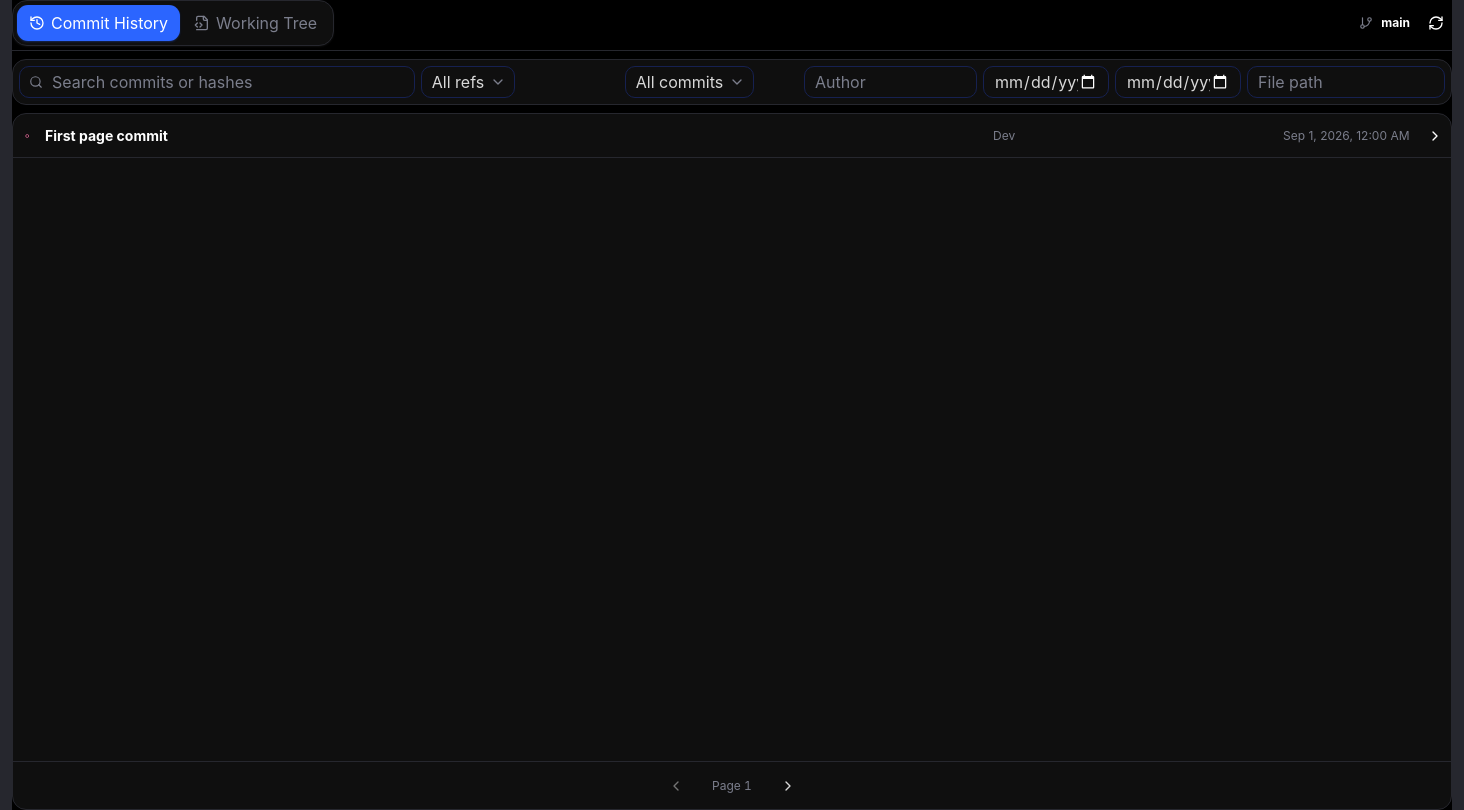
Test: WorkspaceGitPage data loading › fetches the next history page once and reuses cached pages when going back
The image size is (1464, 810).
Expected: the text "First page commit" is shown, [45,126,168,146]
Click the button named "Next".
click(788, 786)  # box [772,770,804,802]
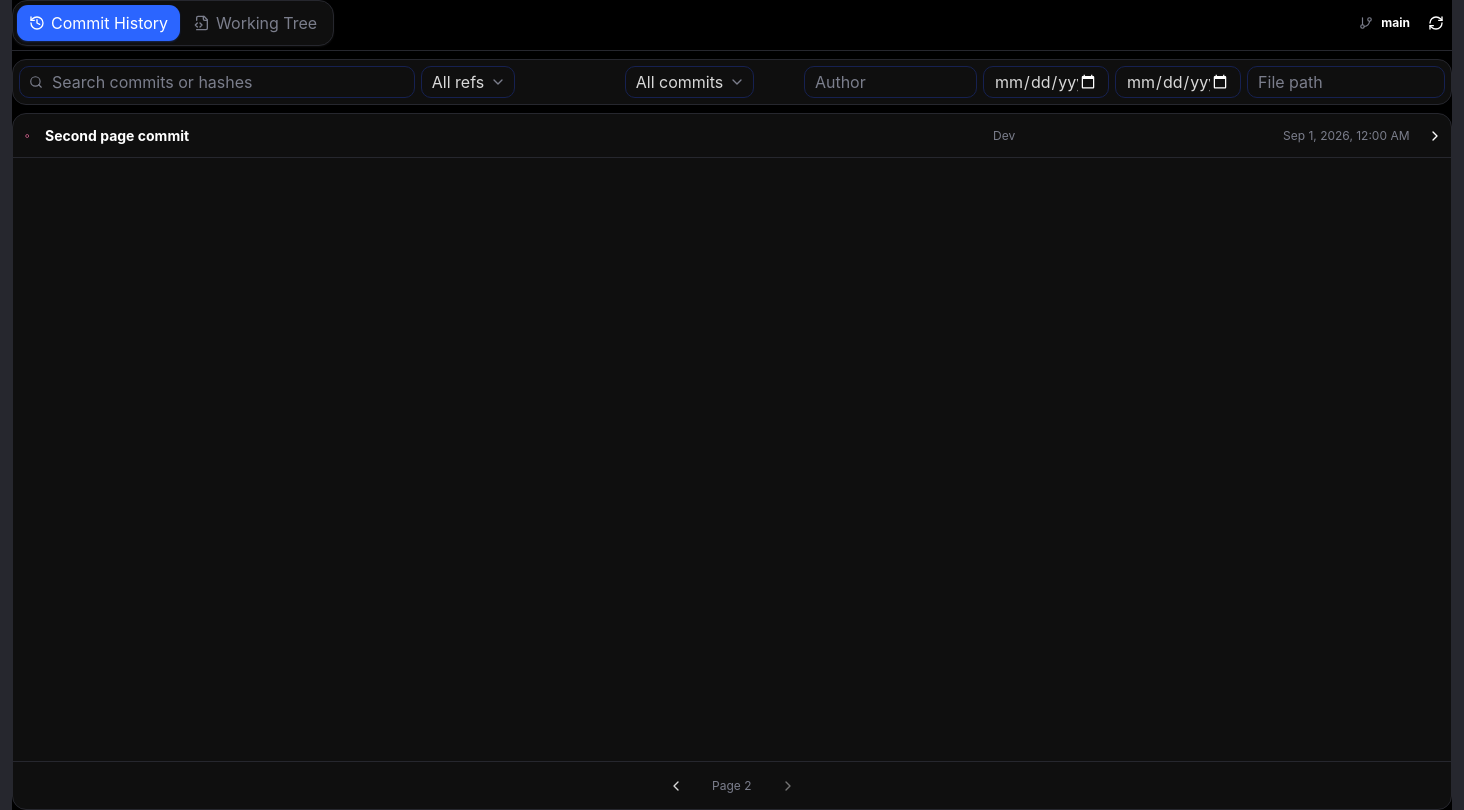
Now the text "Second page commit" is shown, box [45,126,189,146]
Click the button named "Previous".
click(676, 786)  # box [660,770,692,802]
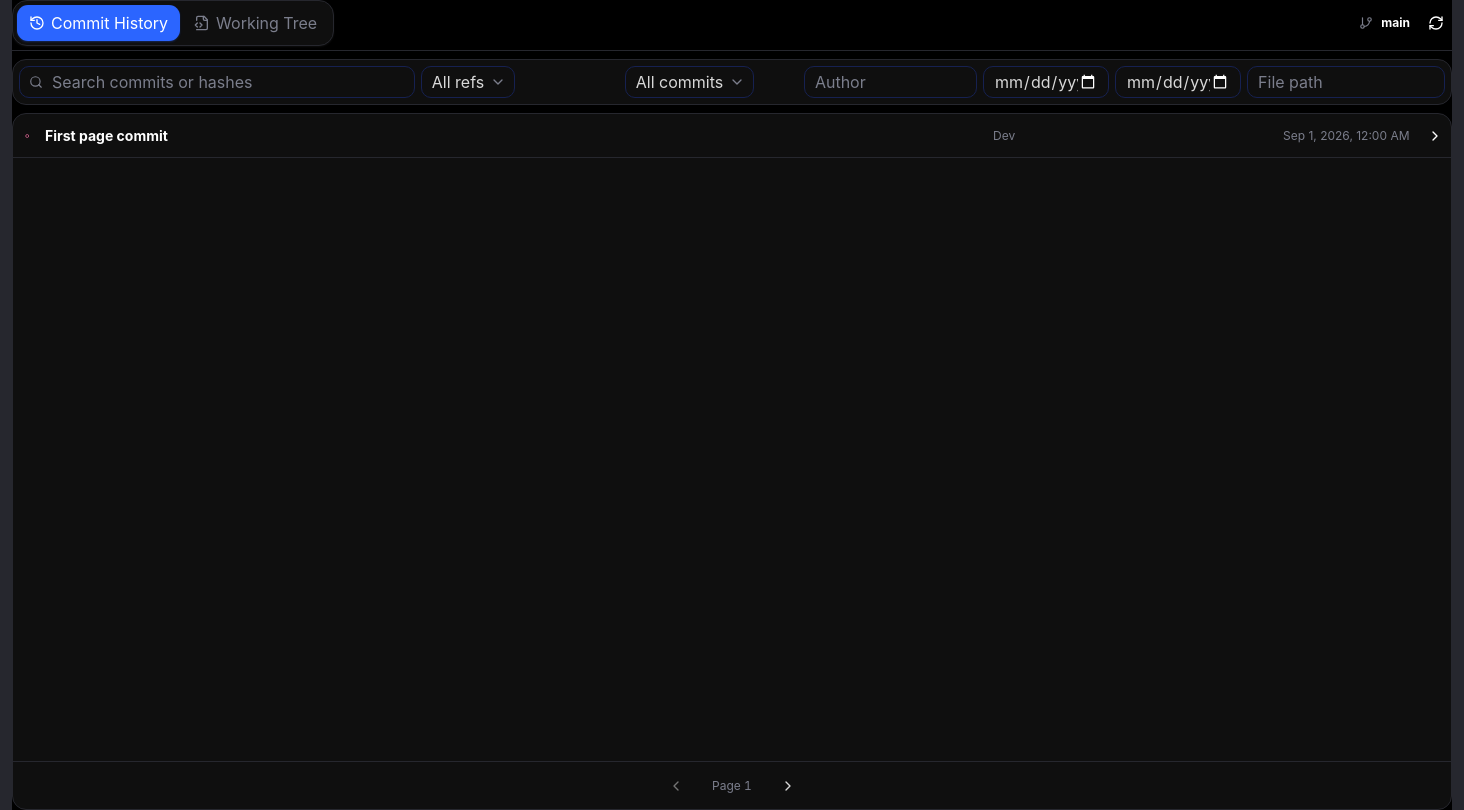
Now the text "First page commit" is shown, box [45,126,168,146]
Click the button named "Next".
click(788, 786)  # box [772,770,804,802]
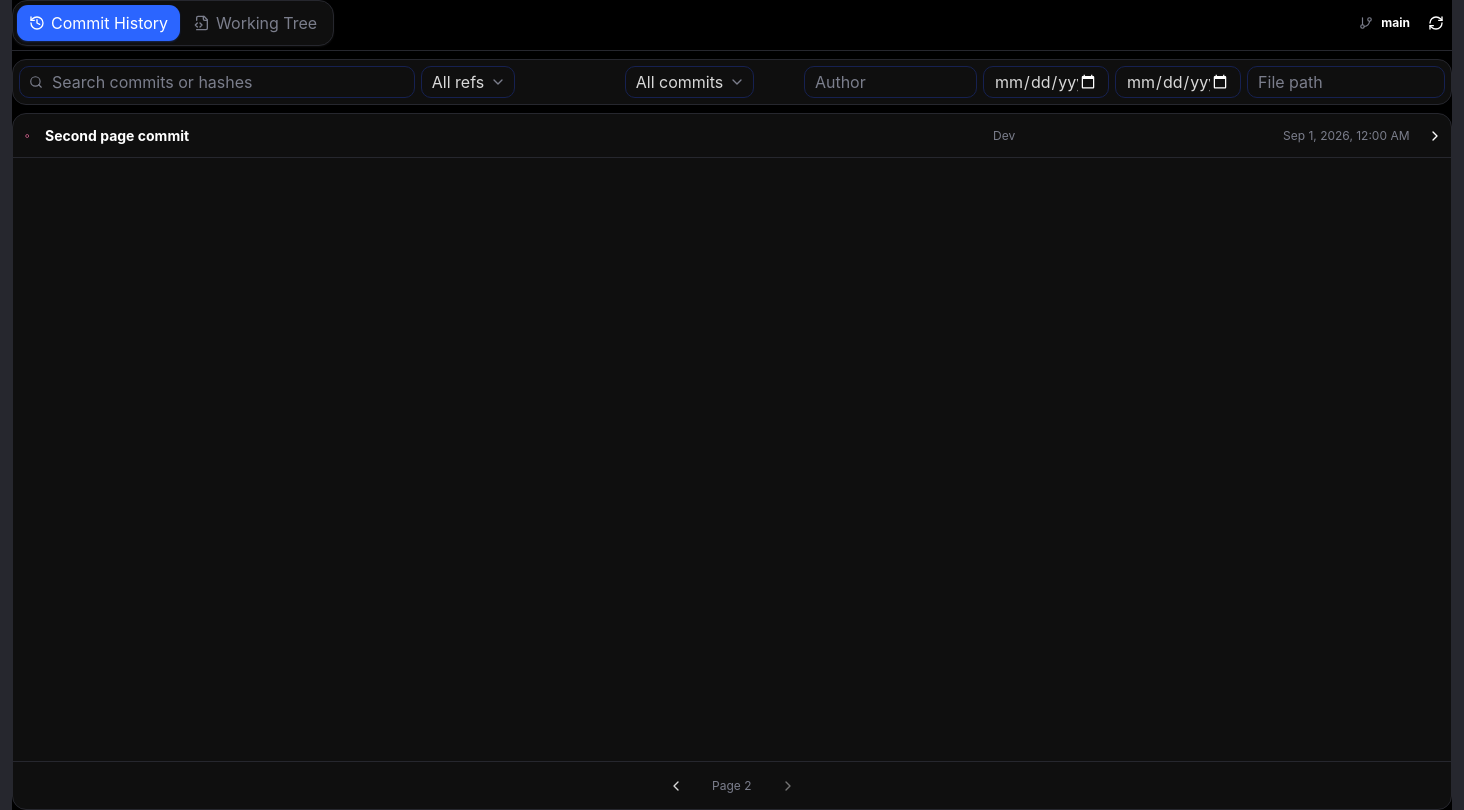
Now the text "Second page commit" is shown, box [45,126,189,146]
